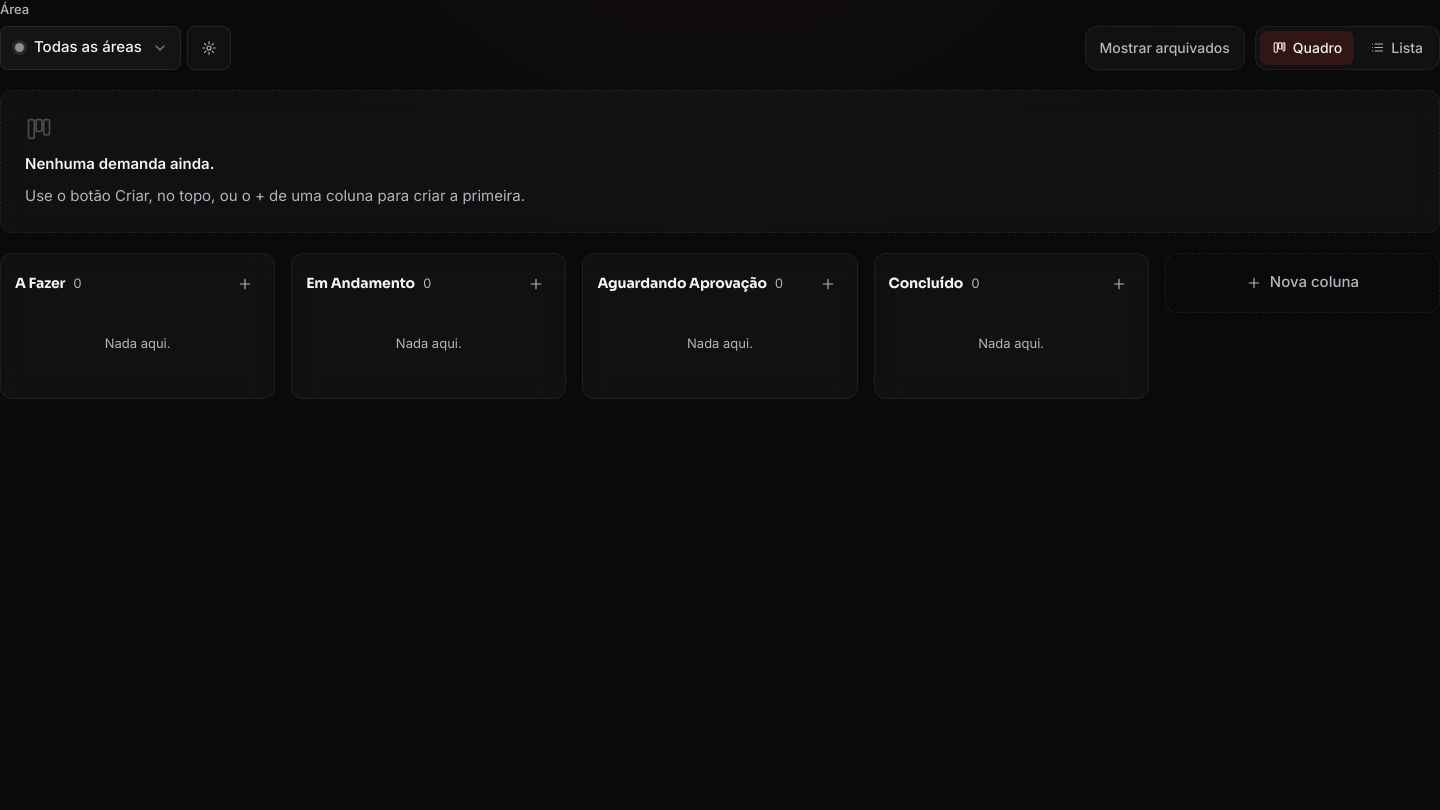
Test: DemandasPage › não salva sem título
Click the button named "Adicionar em A Fazer": [245, 284] box [230,268,260,298]
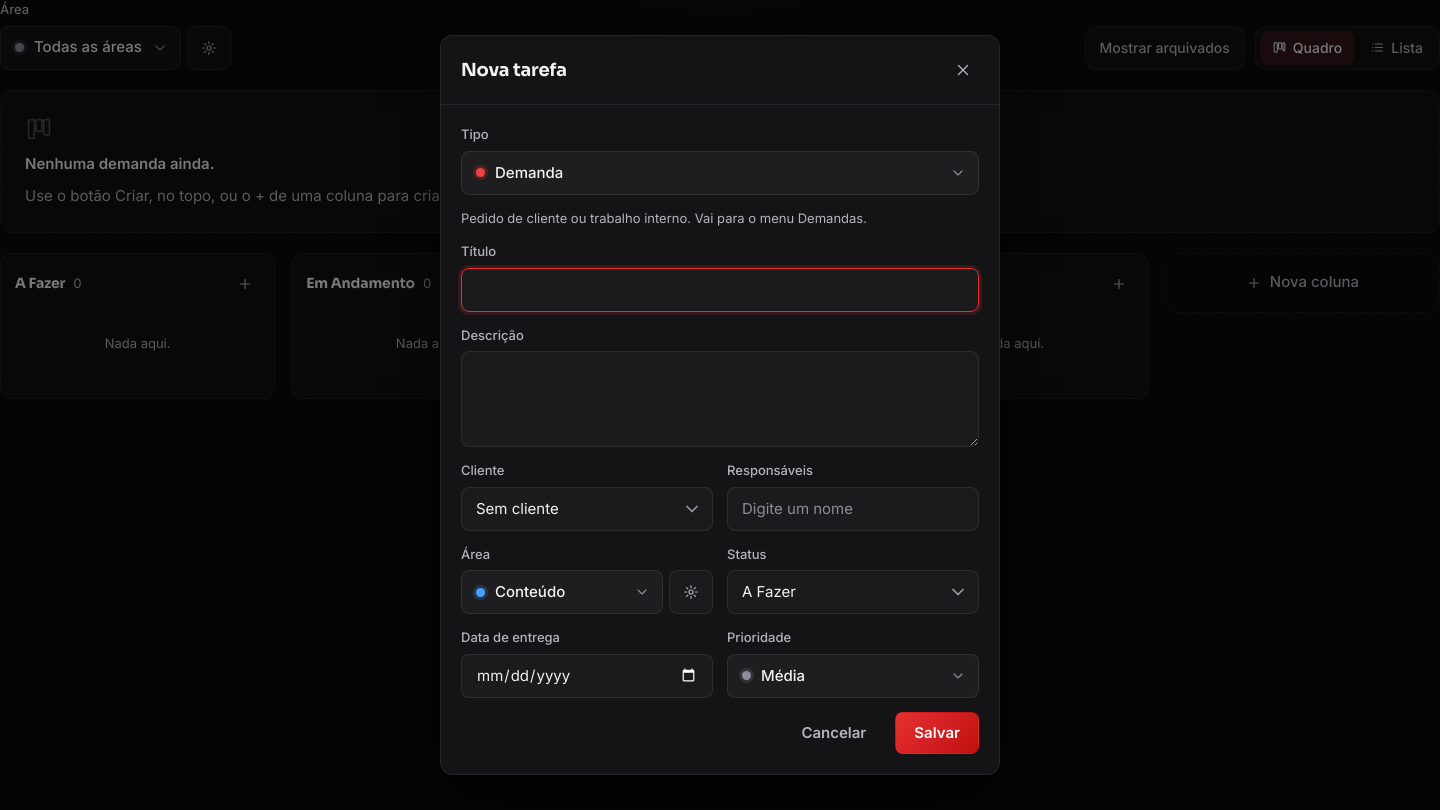
Click the button "Salvar": [937, 733] box [895,712,979,754]
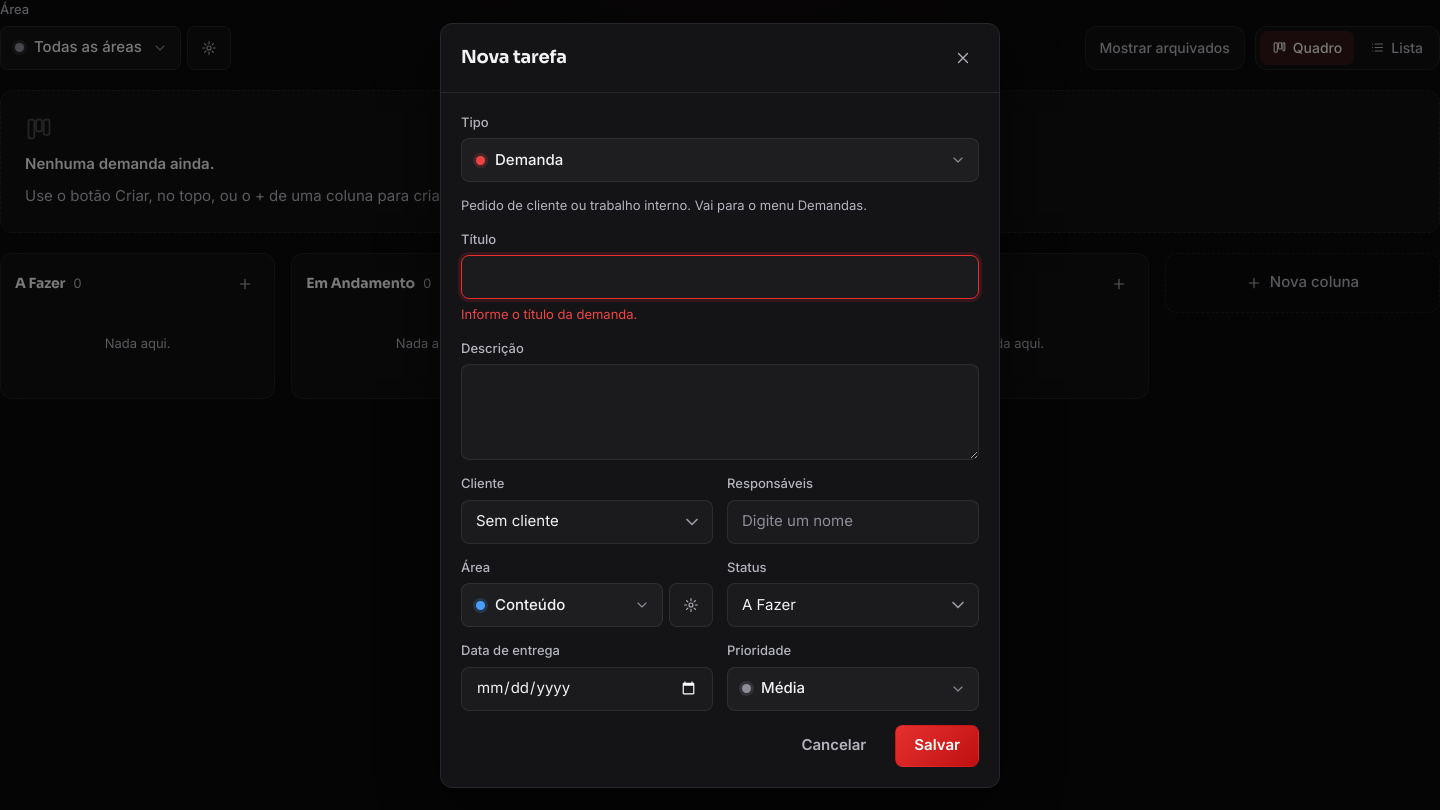
Now the text "Informe o título da demanda." is shown, box [461,306,637,322]
